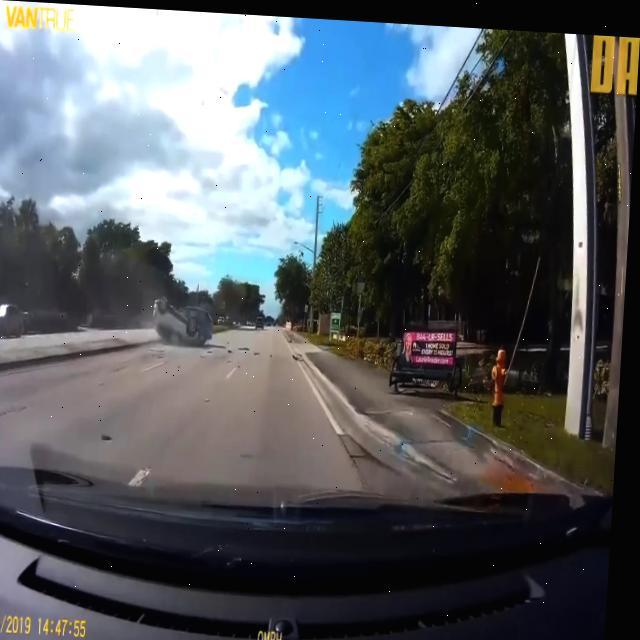single accident: (133, 280, 228, 353)
